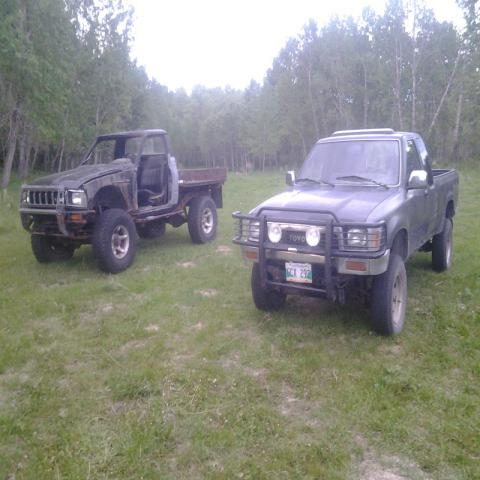truck: (235, 122, 464, 343), (12, 126, 228, 271)
